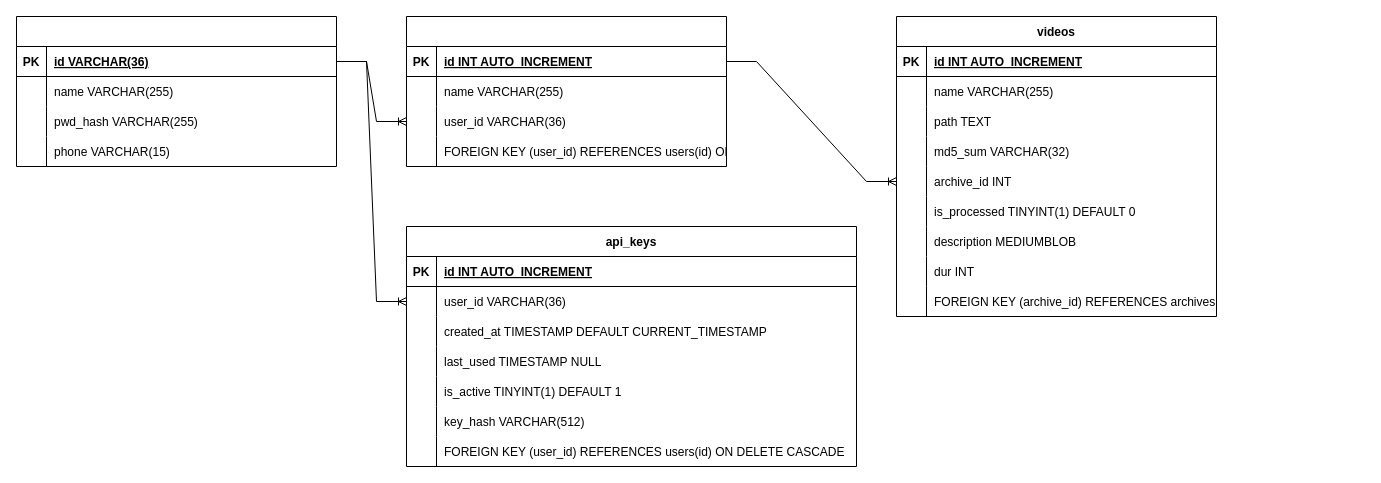
The diagram is 1381 pixels wide and 483 high, and some of its shapes have lost their labels. Each missing label, with the box of its shape:
archives: (406, 16, 726, 166)
users: (16, 16, 336, 166)
